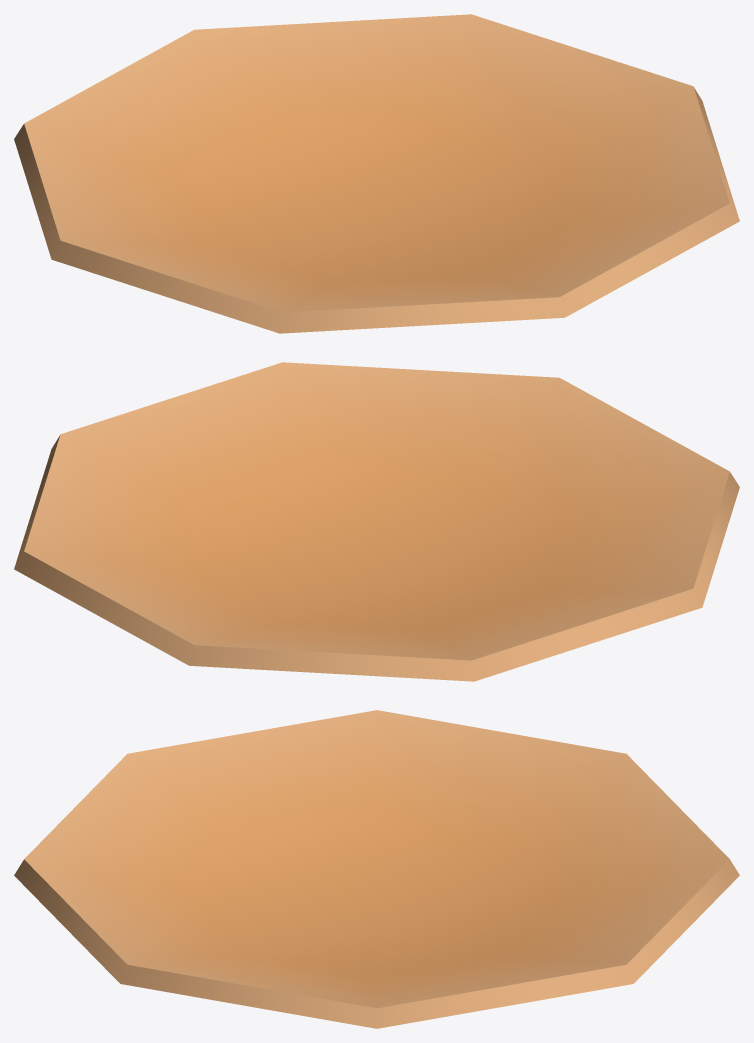
The model's file is Dish2.fbx.
3 views of the same model, one above another, from view 1: azimuth 30°, elevation 25°; view 2: azimuth 150°, elevation 25°; view 3: azimuth 270°, elevation 25° (orthographic). The views are drawn at different scales.
Parts seen in each view (by area): view 1: Dish2; view 2: Dish2; view 3: Dish2.
Part boxes in pixels (bbox=[...]): Dish2: bbox=[14, 14, 739, 333]; Dish2: bbox=[14, 362, 739, 681]; Dish2: bbox=[14, 710, 739, 1028].
Bounding box in the file's own units: 85.72 × 7.25 × 85.72.
